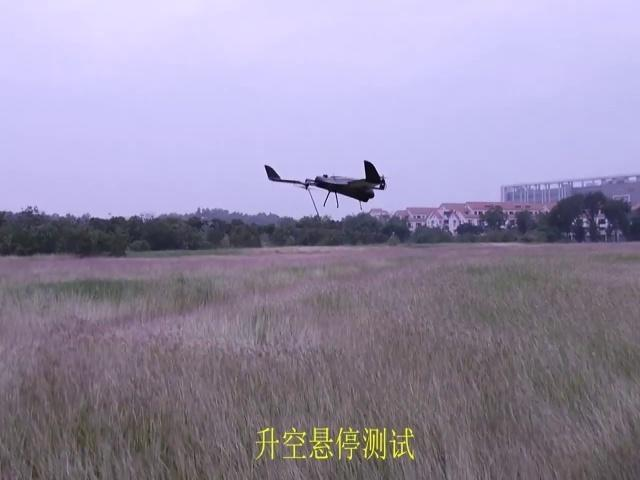Airplane: (264, 160, 386, 201)
